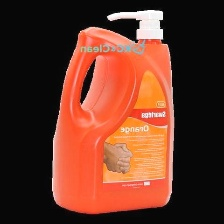cleaning_solution: (49, 6, 176, 218)
